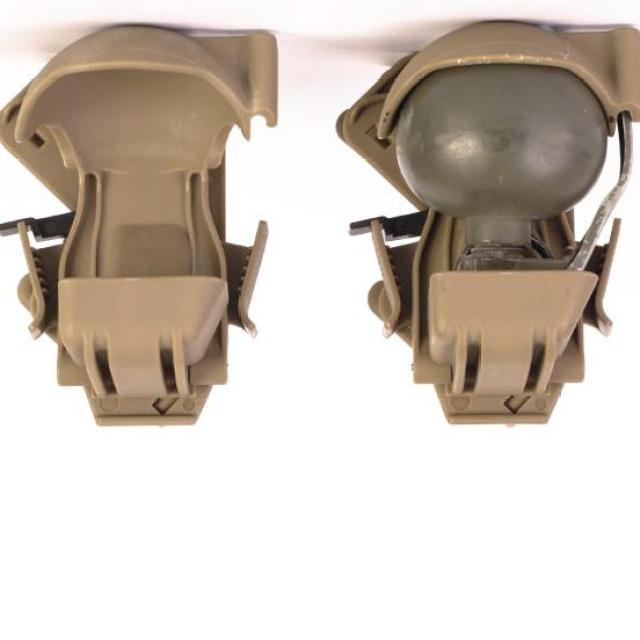grenade: (395, 22, 636, 274)
